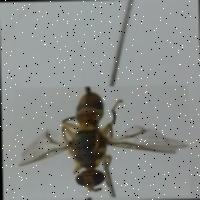Oriental-fruit-fly: (12, 85, 188, 198)
